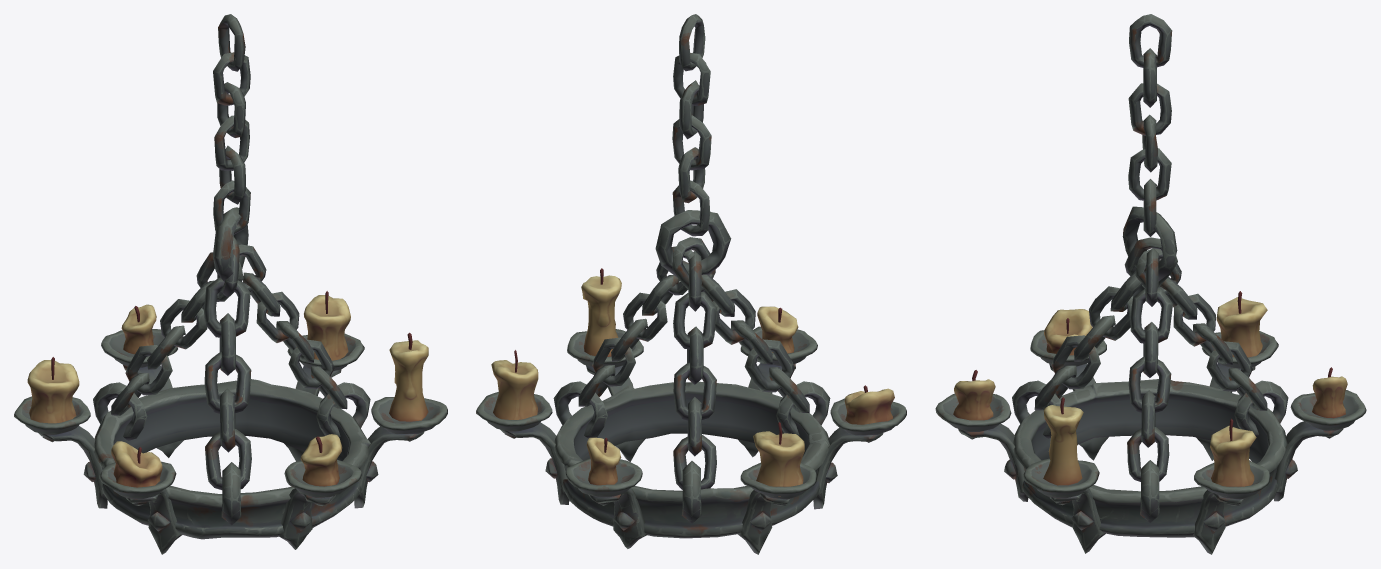
Rendered from SM_FW01_Chandelier_01.fbx.
3 renders of one model, left to right at view 1: azimuth 30°, elevation 25°; view 2: azimuth 150°, elevation 25°; view 3: azimuth 270°, elevation 25°, orthographic.
Parts seen in each view (by area): view 1: SM_FW01_Chandelier_01_LOD0; view 2: SM_FW01_Chandelier_01_LOD0; view 3: SM_FW01_Chandelier_01_LOD0.
Boxes of the visible parts, box(x1,y1,x2,y2) form: SM_FW01_Chandelier_01_LOD0: box(14, 14, 447, 554); SM_FW01_Chandelier_01_LOD0: box(476, 14, 906, 554); SM_FW01_Chandelier_01_LOD0: box(935, 14, 1366, 554).
Size of what is drawn, in the model's own units: 1.12 by 1.58 by 1.25.
